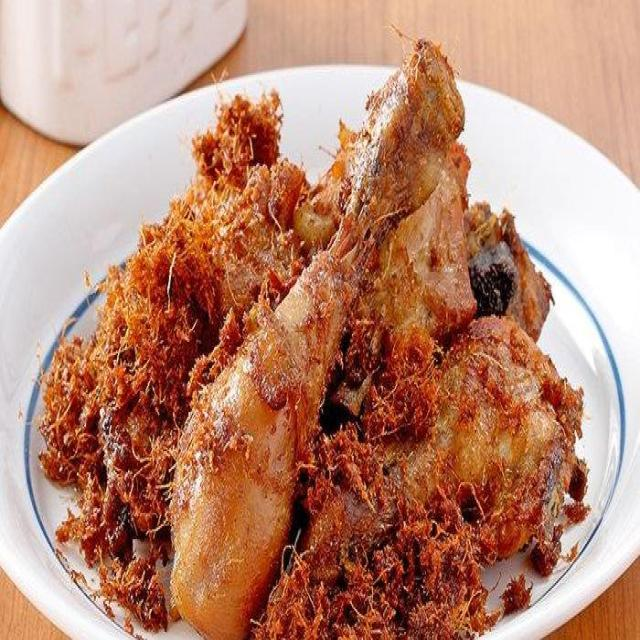ayam_goreng: (90, 34, 583, 606)
